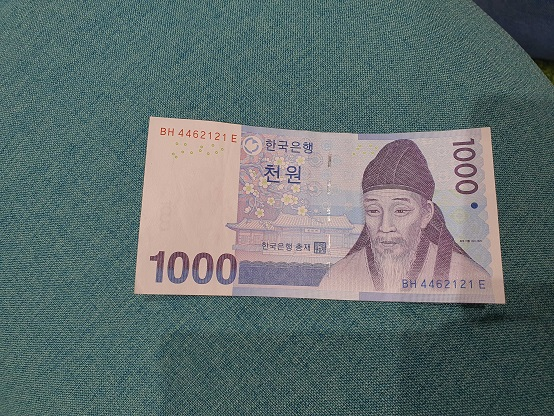1000won: (134, 112, 506, 305)
